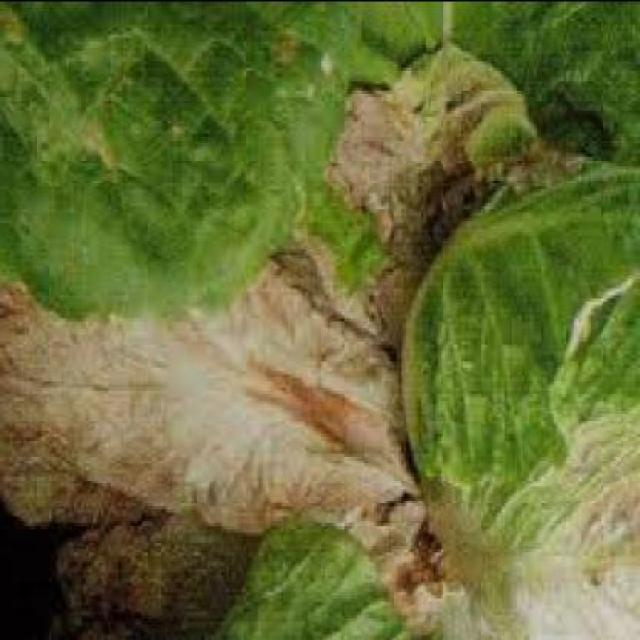BIODEGRADABLE: (398, 148, 638, 637), (1, 1, 368, 317), (370, 2, 638, 165), (217, 521, 418, 637)
